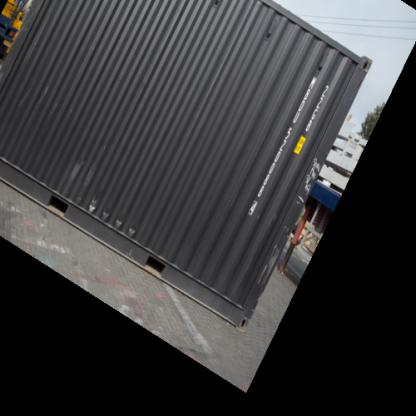Damage: (269, 152, 319, 280), (86, 198, 133, 235)
